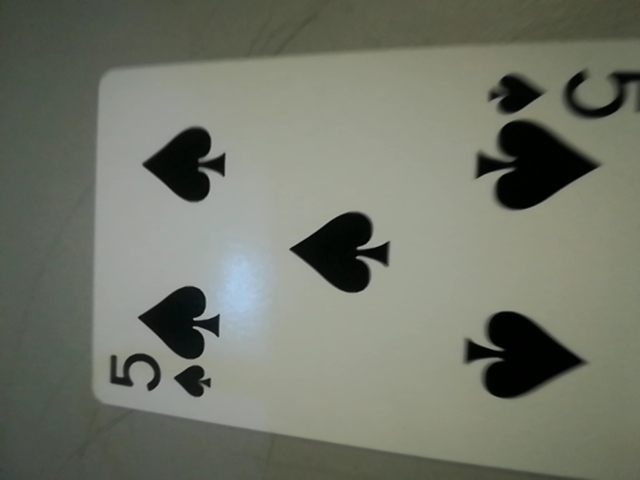ht 5: (468, 61, 640, 135)
